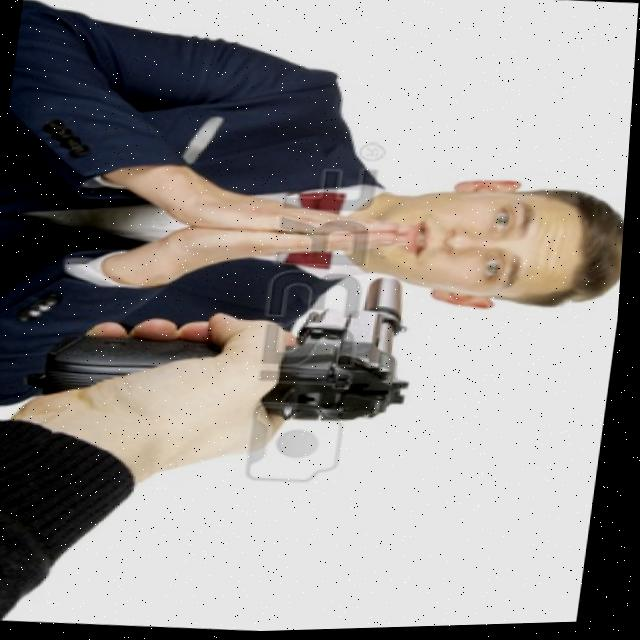pistol: (260, 270, 430, 434)
